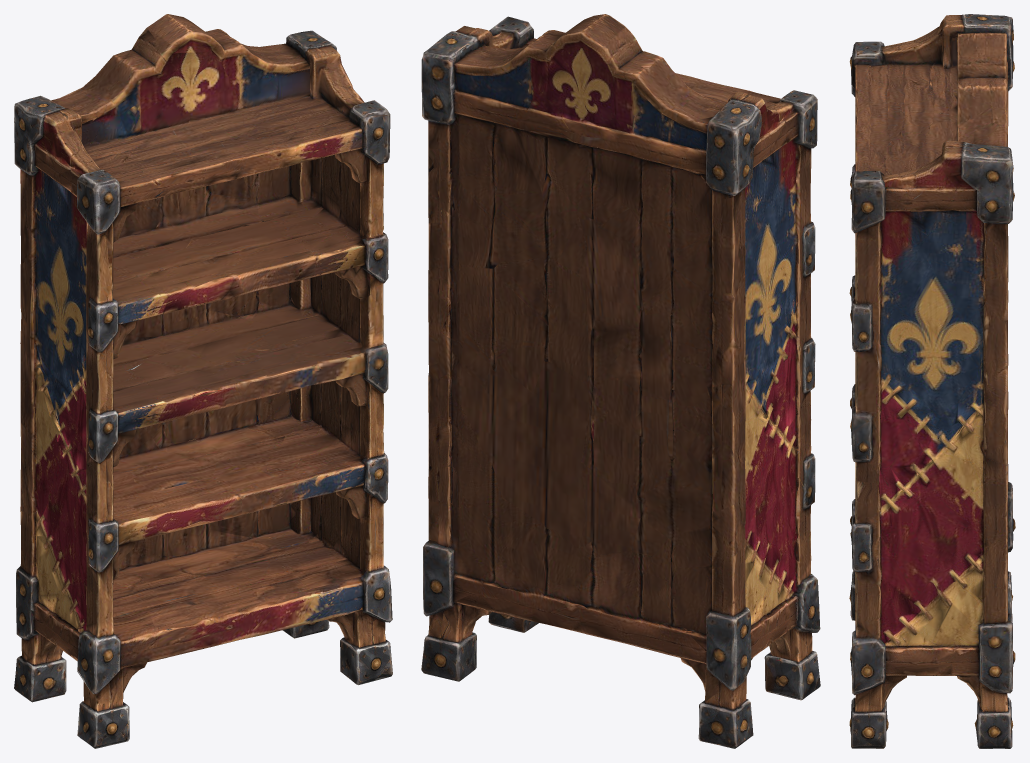
The model's file is shelf_unit_alt.glb.
The picture shows the model from 3 angles, left to right: view 1: azimuth 30°, elevation 25°; view 2: azimuth 150°, elevation 25°; view 3: azimuth 270°, elevation 25°; orthographic projection. The views are drawn at different scales.
Bounding box in the file's own units: 0.942 × 1.9 × 0.4453.
Materials: 1 (1 with a texture image).
